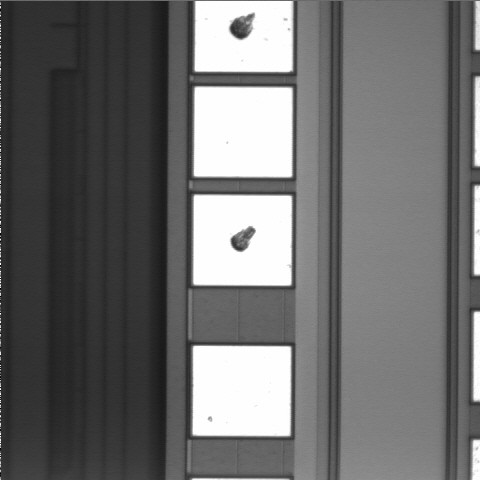pad: (193, 195, 292, 286), (194, 87, 292, 177), (193, 346, 291, 436)
